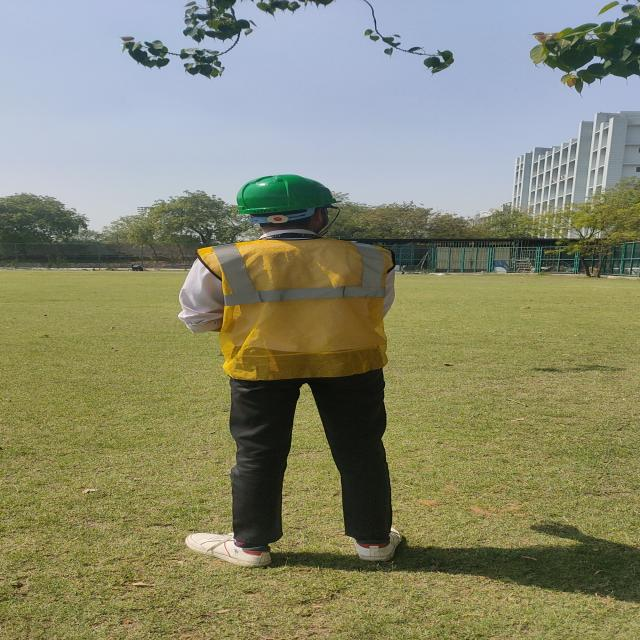unsafe: (180, 174, 394, 560)
